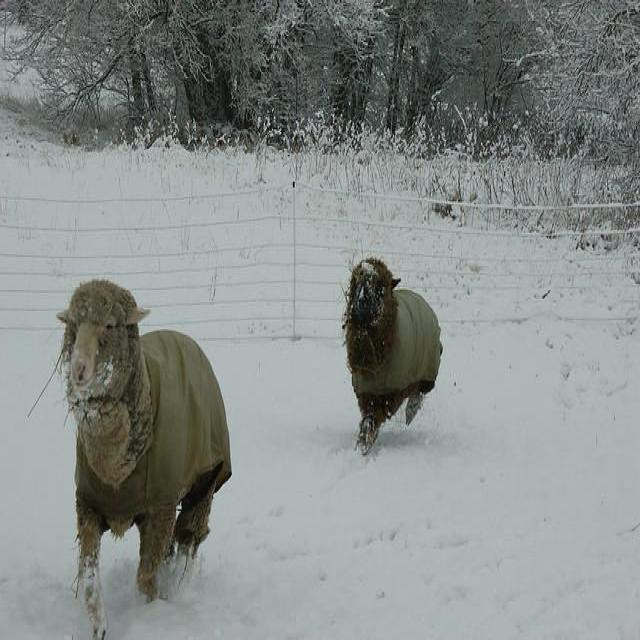Sheep: (60, 276, 232, 632), (346, 264, 442, 457)
